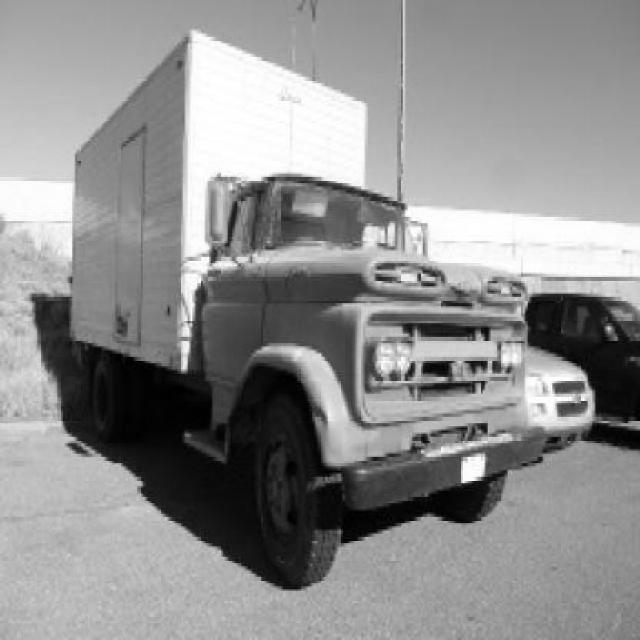Box Truck: (70, 31, 546, 592)
